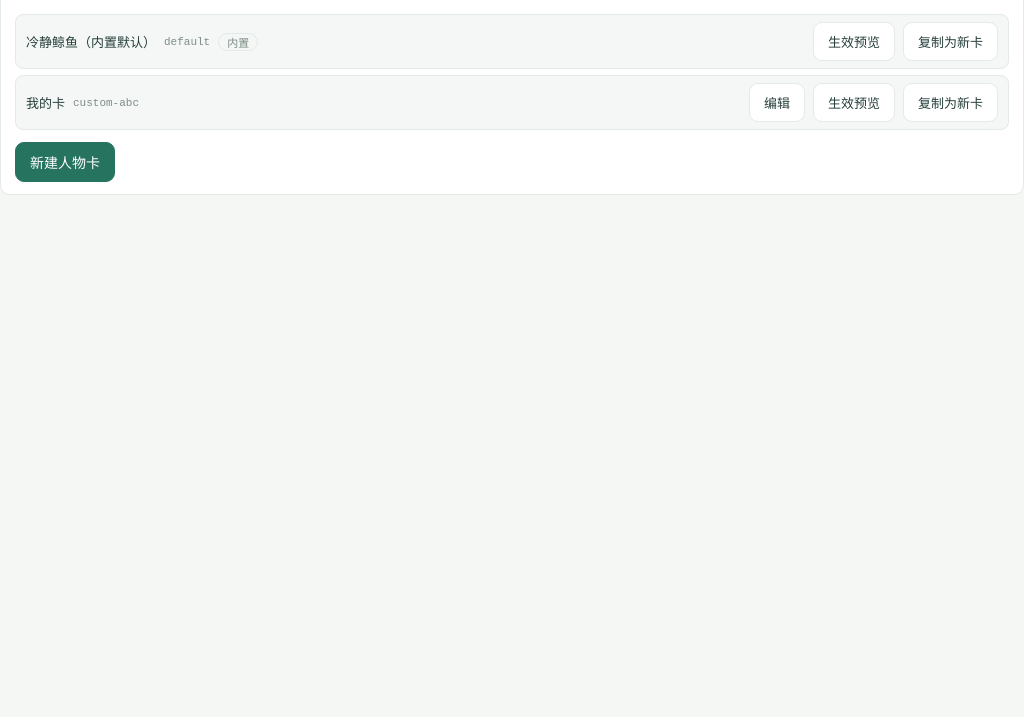
Test: PersonaPanel 人物卡管理 › 保存被拒（如内置卡 403）时错误显示在表单内，不静默
The image size is (1024, 717).
Click the button "编辑": (777, 103) [749,83,805,122]
(page scrolled)
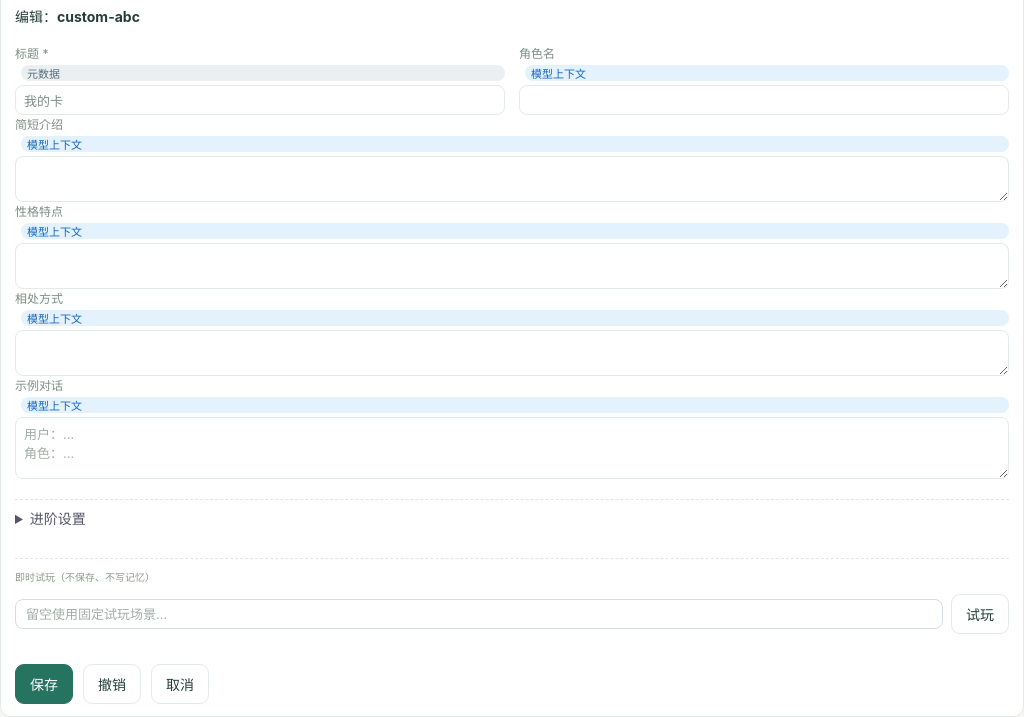
expect the button "保存" is shown: met
Click the button "保存": (44, 684) [15,664,73,704]
(page scrolled)
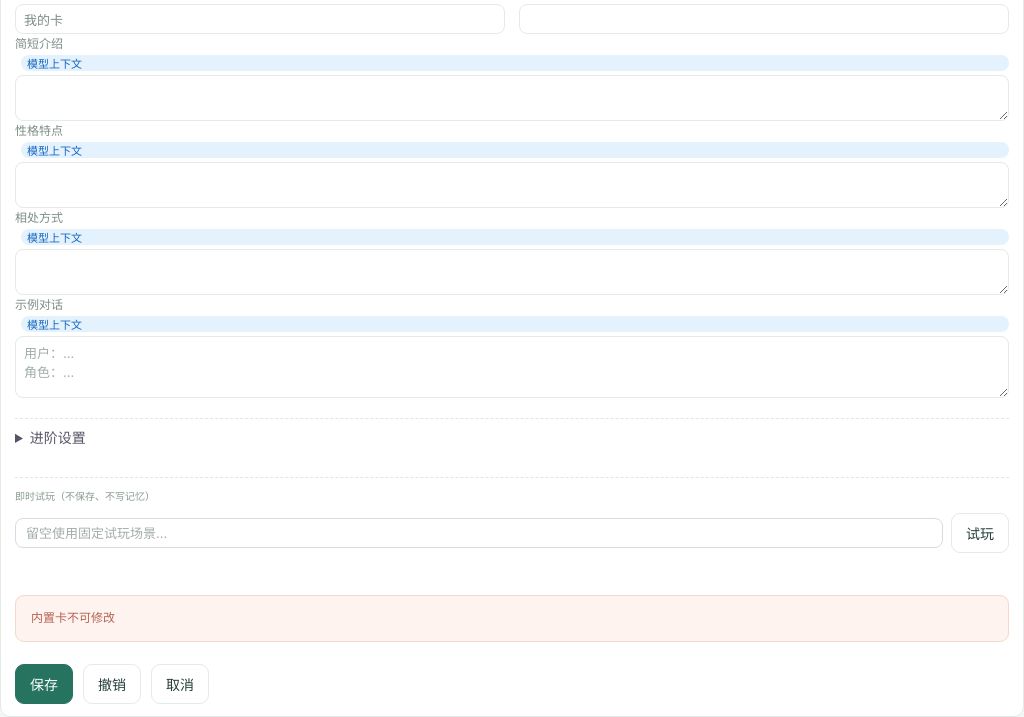
expect the text "内置卡不可修改" is shown: met, box [15,595,1009,642]
